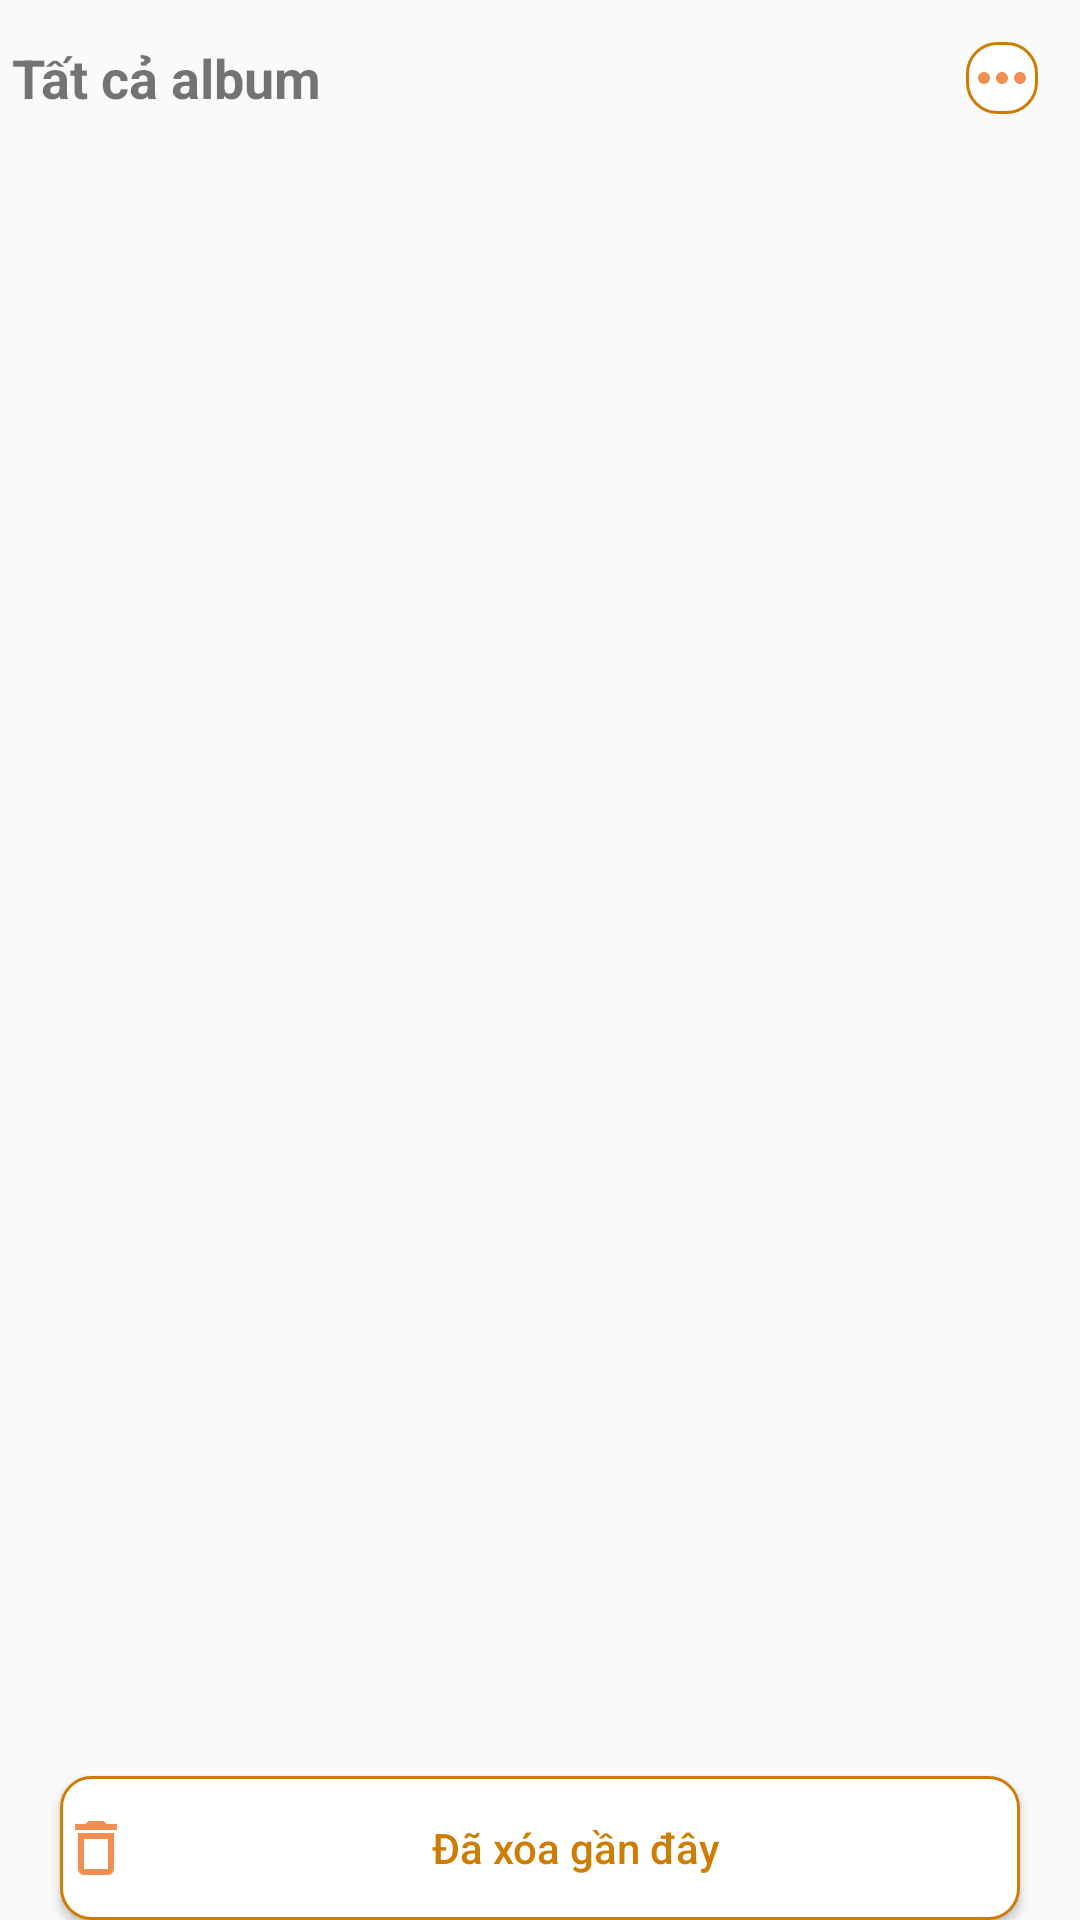

Where to tap for icons on this 1080x1920 app screen, as (x,y):
more: (1002,78)
